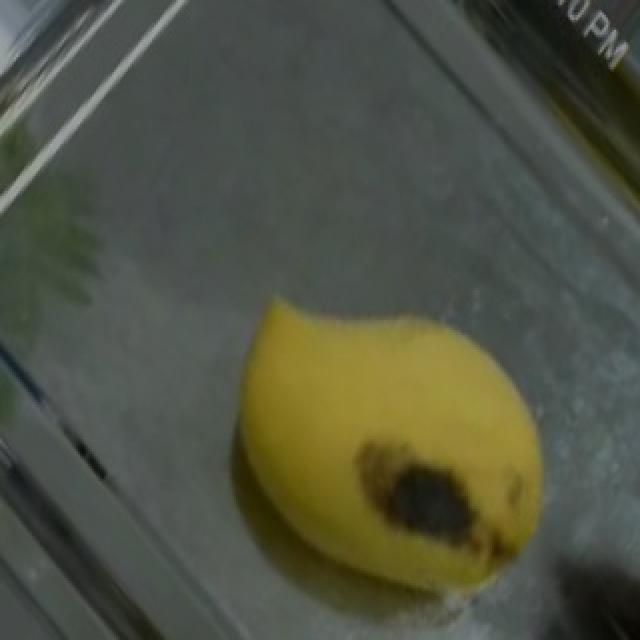fruit: (166, 166, 624, 640)
